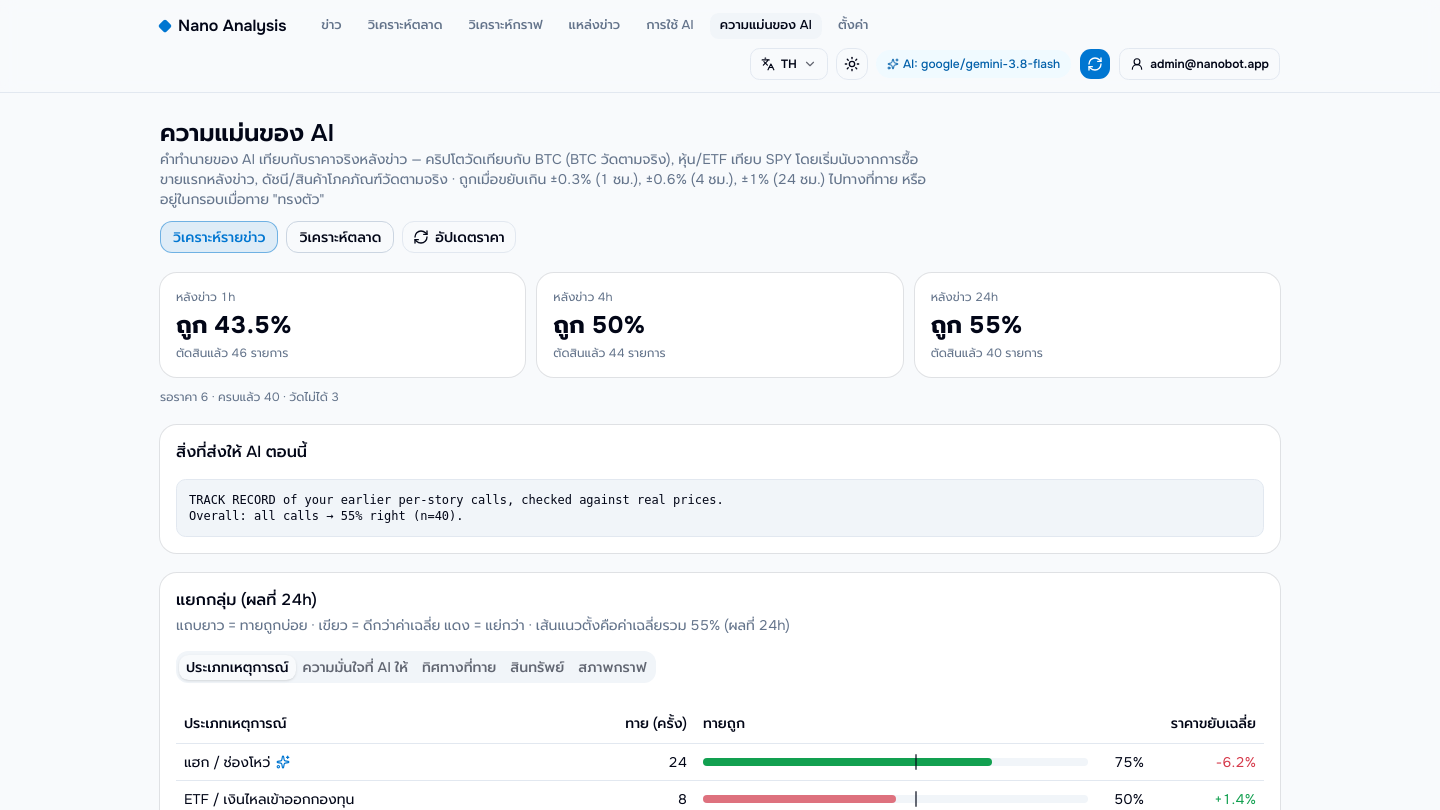
AccuracyPage › shows one grouping at a time and folds away groups with little data
Click the tab "สินทรัพย์".
click(537, 667)  # box [503, 654, 571, 680]
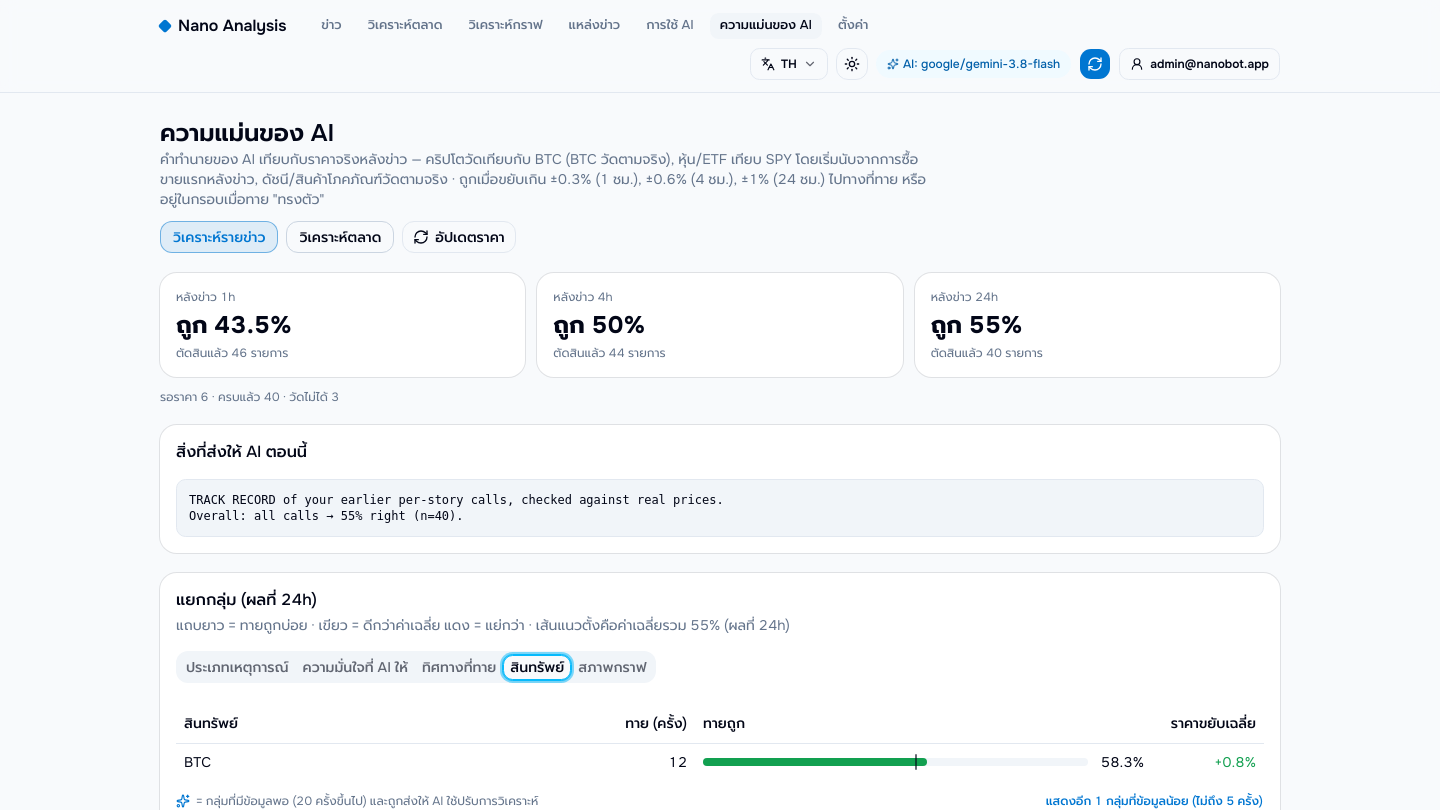
expect the text "ATOM" is not shown: met
expect the text "BTC" is shown: met, box [184, 752, 211, 772]
Click the button "แสดงอีก 1 กลุ่มที่ข้อมูลน้อย (ไม่ถึง 5 ครั้ง)".
click(1154, 800)  # box [1045, 792, 1264, 809]
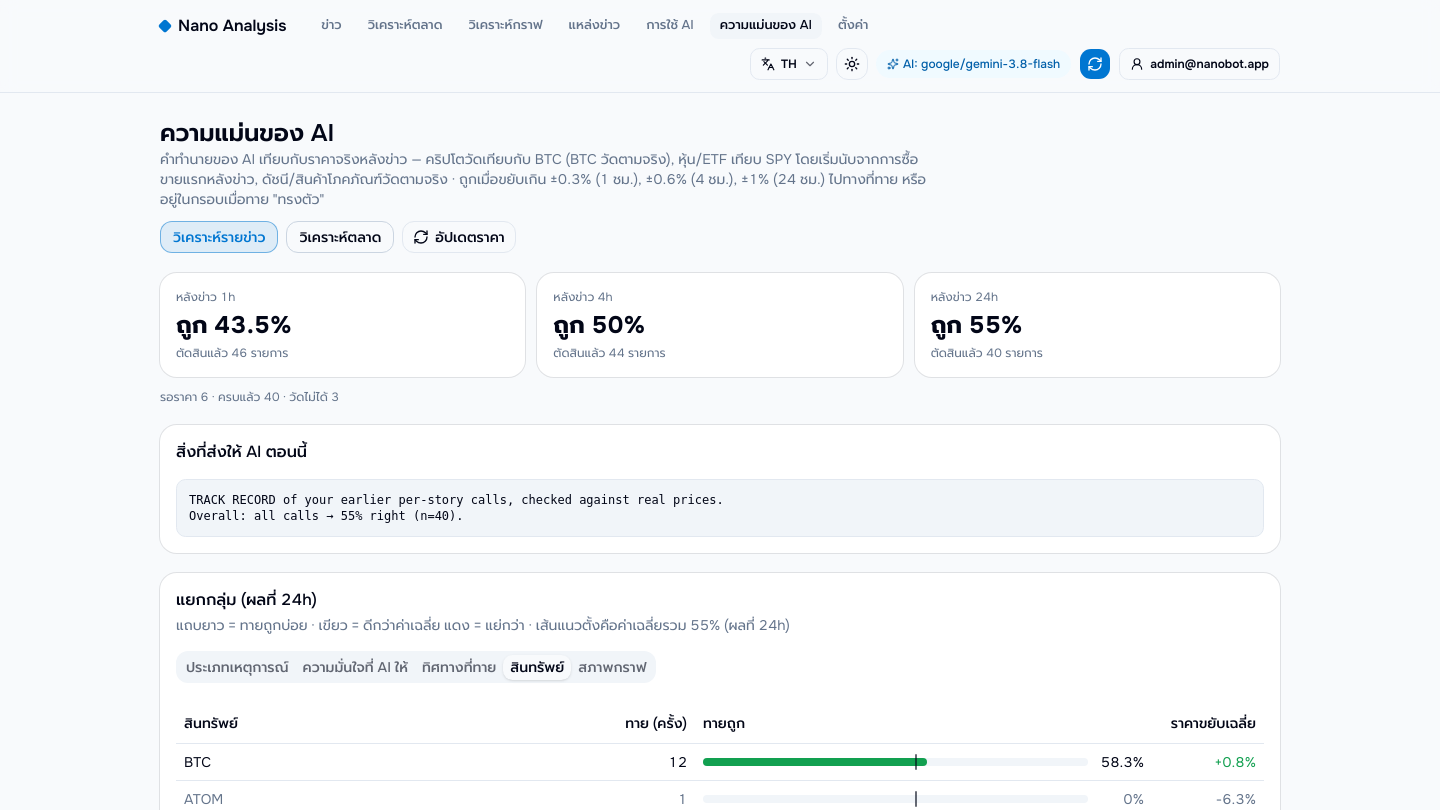
expect the text "ATOM" is shown: met, box [184, 788, 223, 808]
